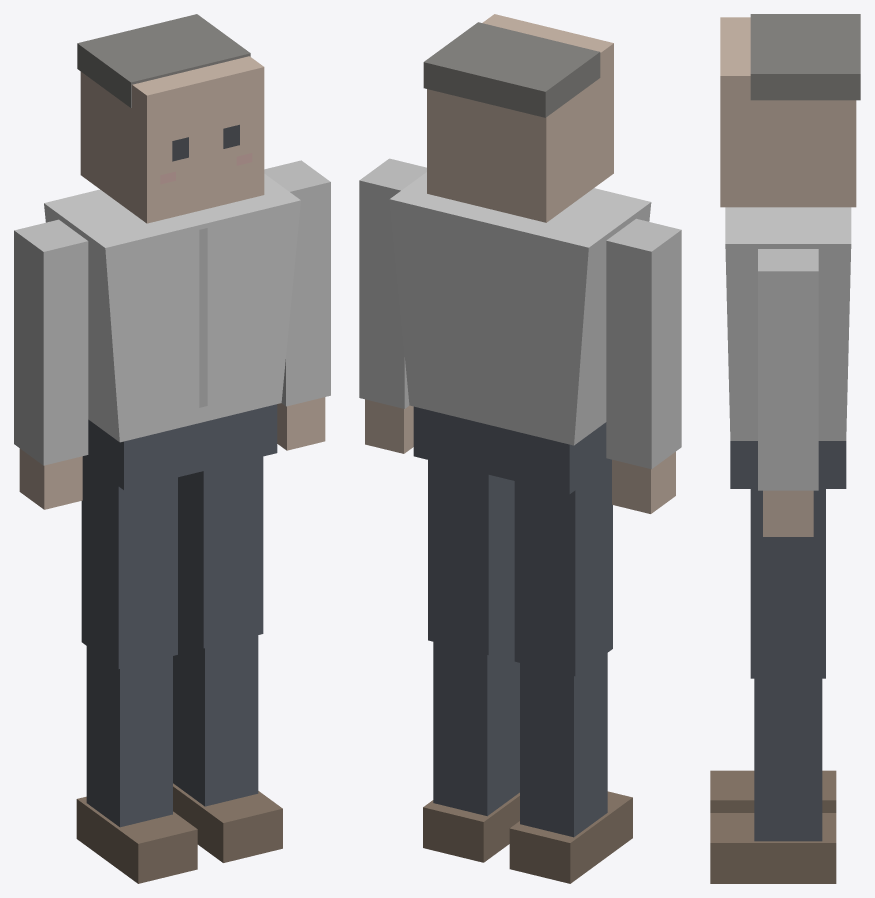
The model's file is walker_7.glb.
3 views of the same model, side by side, from view 1: azimuth 30°, elevation 25°; view 2: azimuth 150°, elevation 25°; view 3: azimuth 270°, elevation 25° (orthographic). The views are drawn at different scales.
Visible parts, largest first — view 1: walker_7; view 2: walker_7; view 3: walker_7.
Boxes of the visible parts, box(x1,y1,x2,y2) form: walker_7: box(14, 14, 330, 883); walker_7: box(359, 14, 681, 883); walker_7: box(710, 14, 860, 883).
Bounding box in the file's own units: 0.6683 × 1.74 × 0.2958.
